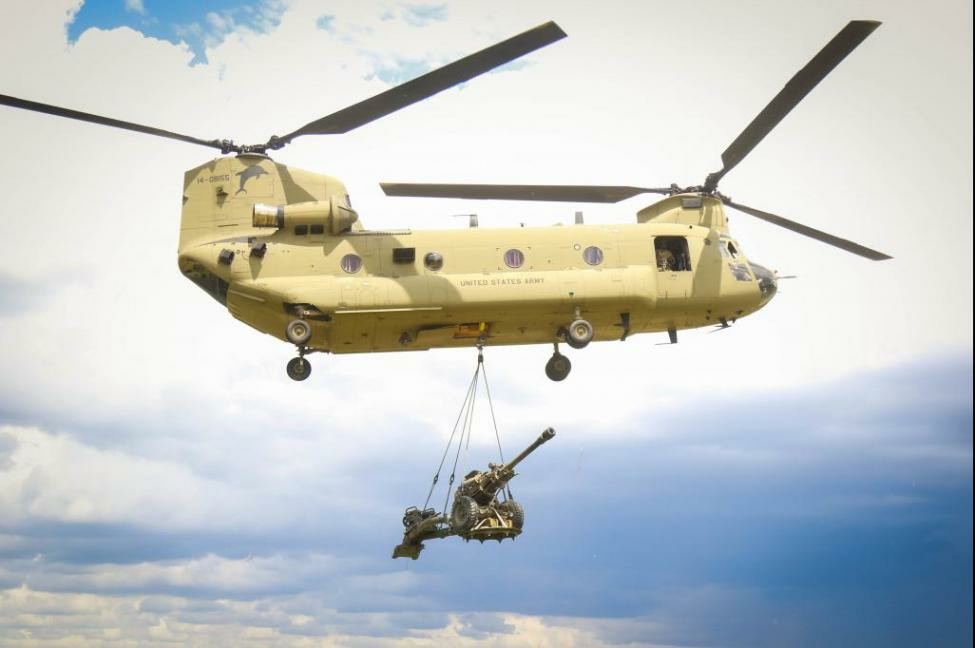chinook: (95, 85, 832, 382)
